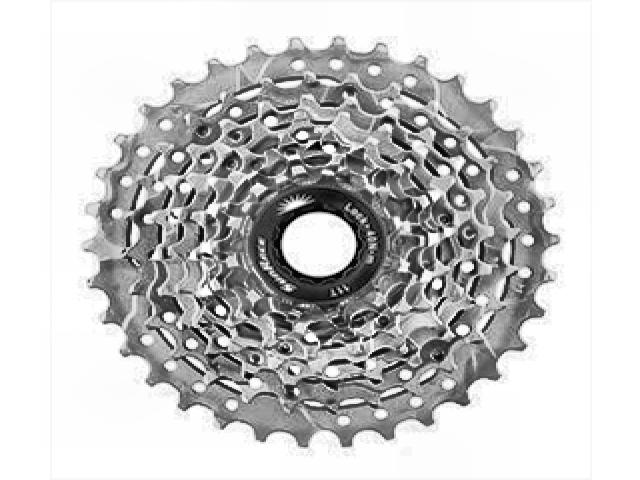cassette: (83, 36, 560, 448)
